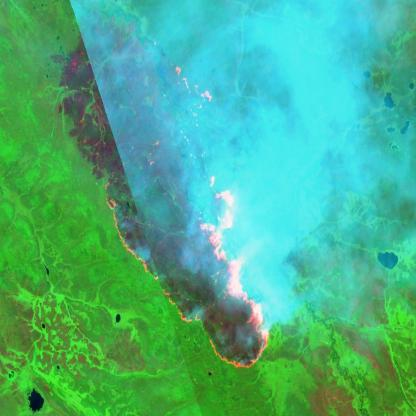fire: (106, 42, 274, 376)
